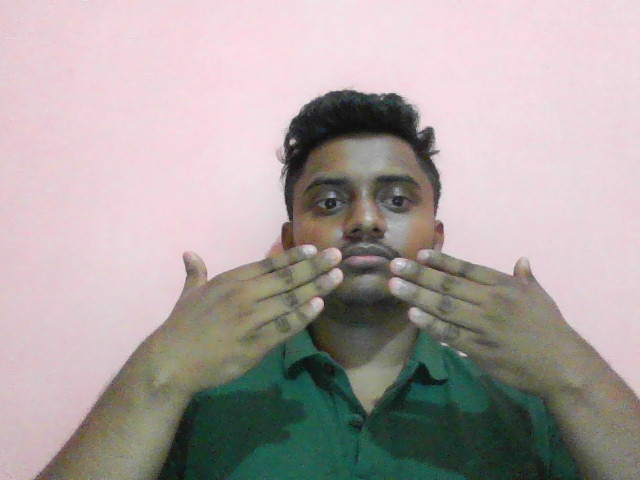Thank You: (113, 240, 623, 408)
